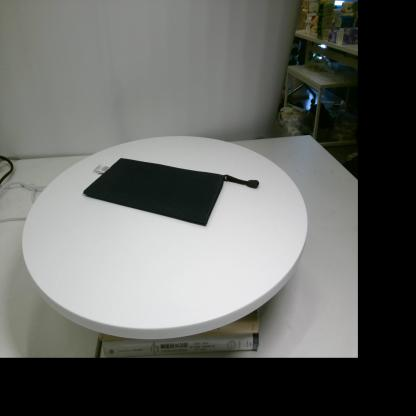Stationery: (83, 158, 259, 225)
